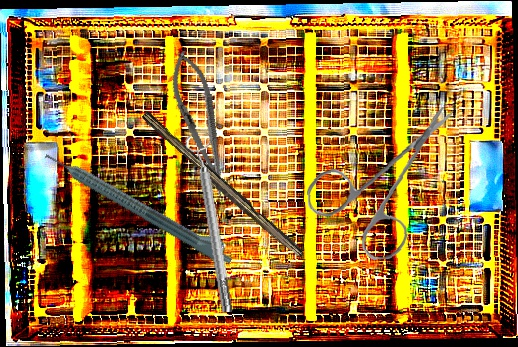Fixation Ring: (183, 132, 241, 315)
Handpiece: (42, 140, 239, 269)
Iris Scissors: (302, 105, 462, 265)
Needle Holder: (162, 47, 240, 202)
Scalpel Handle: (136, 110, 308, 262)
